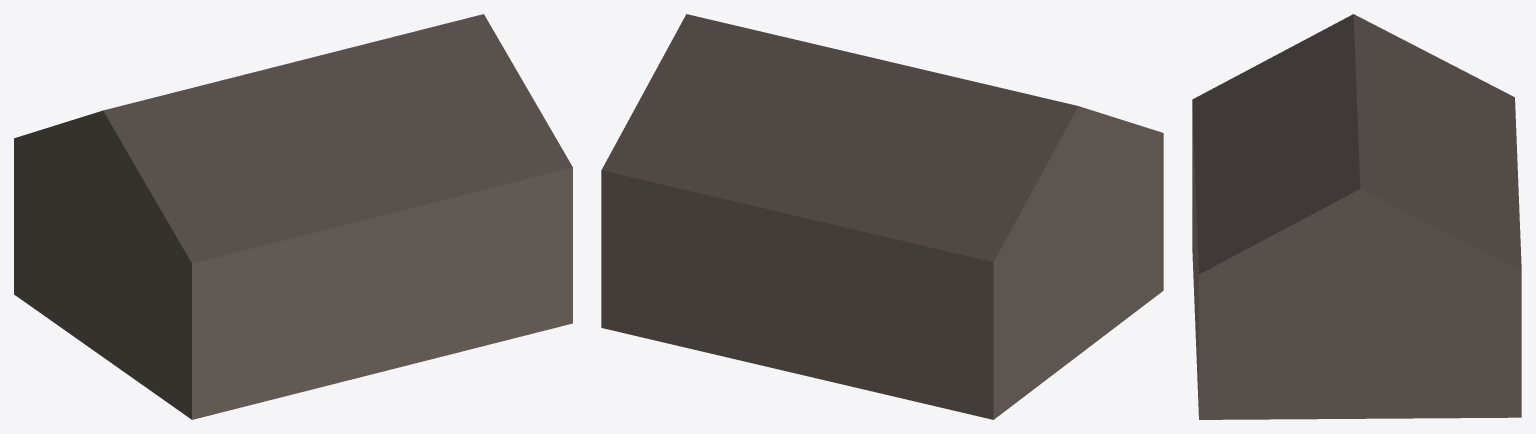
The picture shows the model from 3 angles, left to right: view 1: azimuth 30°, elevation 25°; view 2: azimuth 150°, elevation 25°; view 3: azimuth 270°, elevation 25°; orthographic projection. The views are drawn at different scales.
Visible parts, largest first — view 1: HP-w858824298; view 2: HP-w858824298; view 3: HP-w858824298.
Boxes of the visible parts, x1,y1,x2,y2 form: HP-w858824298: (14, 14, 572, 419); HP-w858824298: (601, 14, 1163, 419); HP-w858824298: (1192, 14, 1521, 419).
Bounding box in the file's own units: 15.66 × 9.48 × 12.32.
